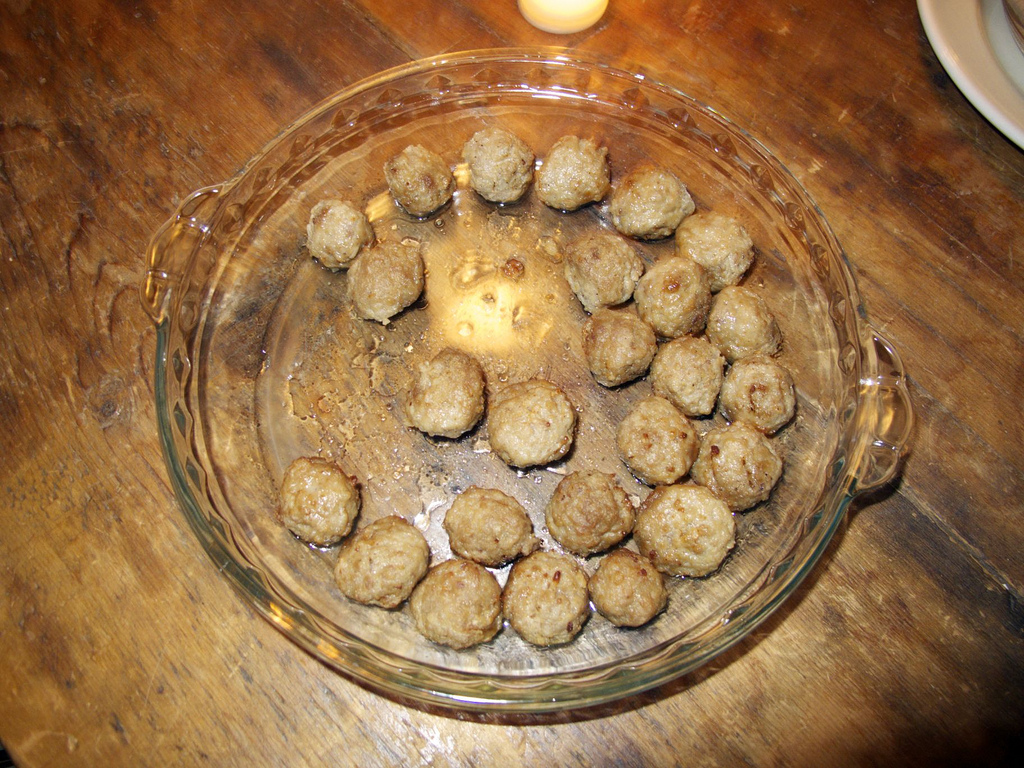meatballs: (252, 105, 800, 656)
